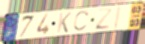4: (35, 13, 50, 37)
7: (19, 15, 36, 39)
C: (72, 10, 91, 33)
I: (112, 6, 123, 31)
K: (56, 12, 73, 34)
Z: (94, 8, 114, 32)
